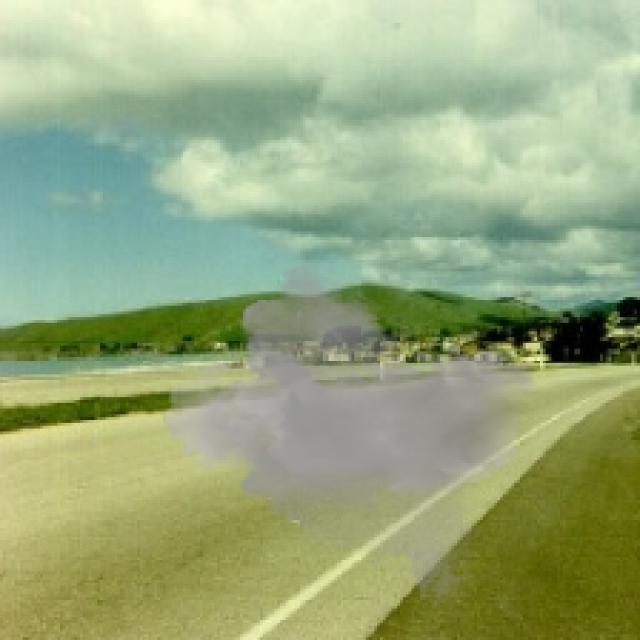Smoke: (162, 254, 538, 609)
